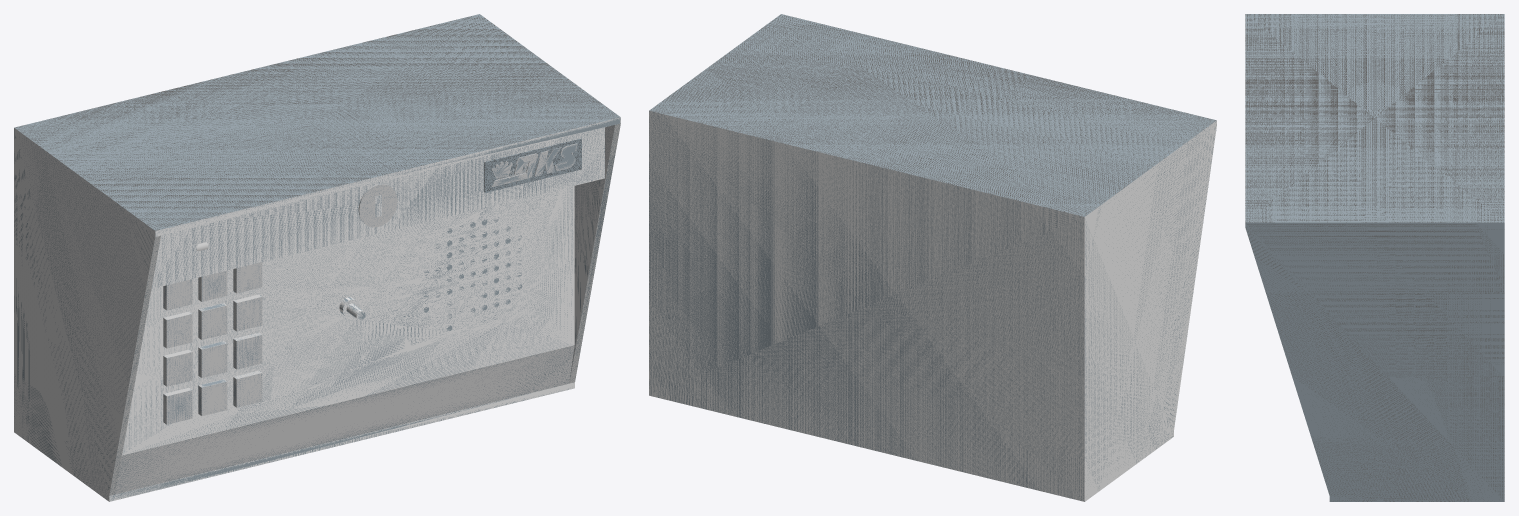
The model's file is telephone.fbx.
The picture shows the model from 3 angles, left to right: view 1: azimuth 30°, elevation 25°; view 2: azimuth 150°, elevation 25°; view 3: azimuth 270°, elevation 25°; orthographic projection. The views are drawn at different scales.
Parts seen in each view (by area): view 1: dks1812_1, Group5, dks_logo1, Group3, Group2; view 2: dks1812_1; view 3: dks1812_1.
Part boxes in pixels (x1,y1,x2,y2): dks1812_1: (14, 14, 620, 501); Group5: (163, 262, 262, 424); dks_logo1: (484, 138, 581, 192); Group3: (423, 216, 522, 331); Group2: (358, 184, 397, 227); dks1812_1: (649, 14, 1216, 501); dks1812_1: (1245, 14, 1504, 501).
Size of the model in its own units: 0.254 by 0.1587 by 0.1333.
